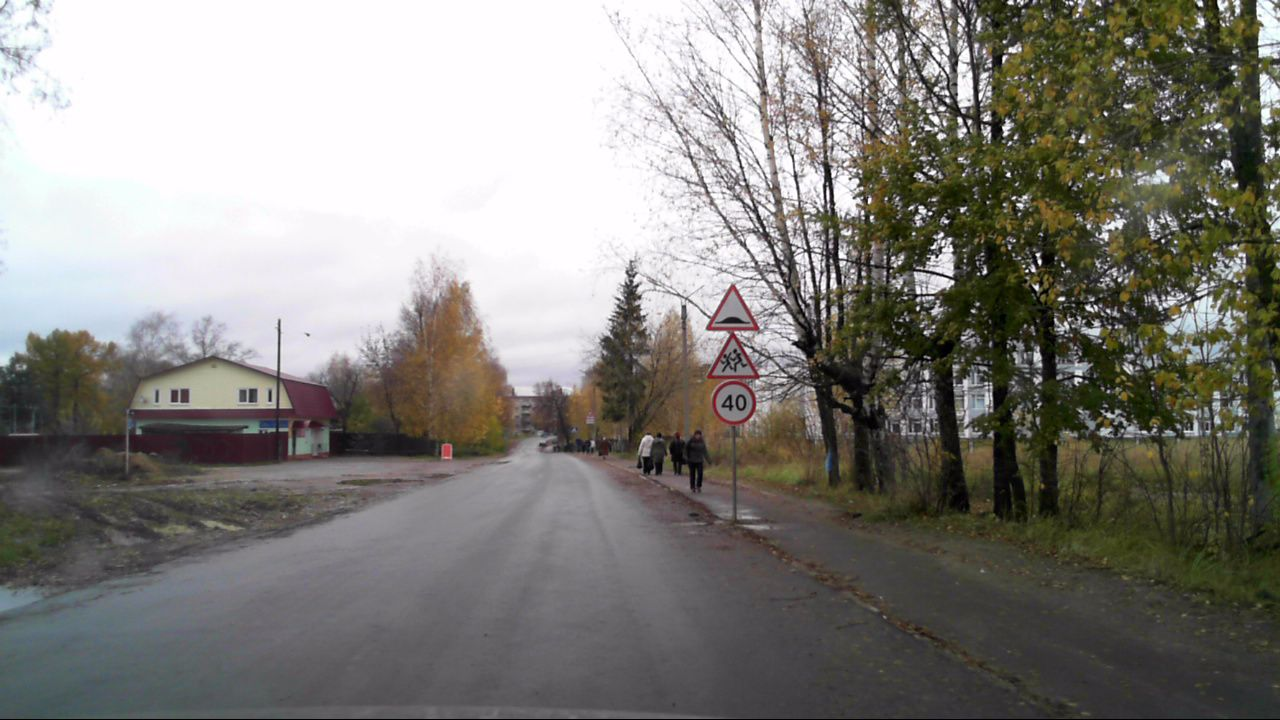speed_warning_40: (710, 379, 757, 424)
